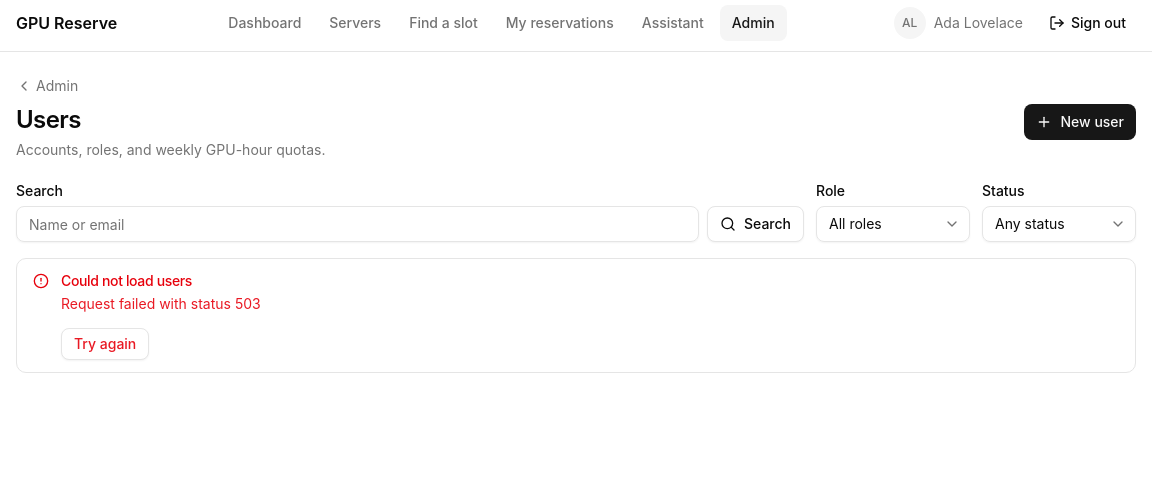
user list › shows an error with retry
Expected: the text "Could not load users" is shown, x1=61 y1=272 x2=192 y2=289
Click the button "Try again" at (105, 344), box x1=61 y1=328 x2=149 y2=360
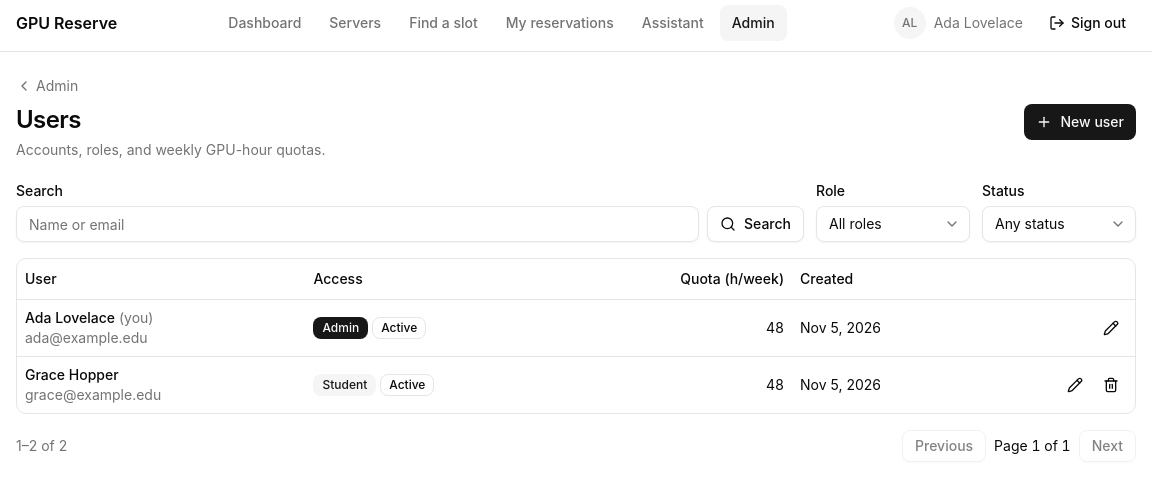
Result: the text "Grace Hopper" is shown at x1=25 y1=366 x2=119 y2=382
